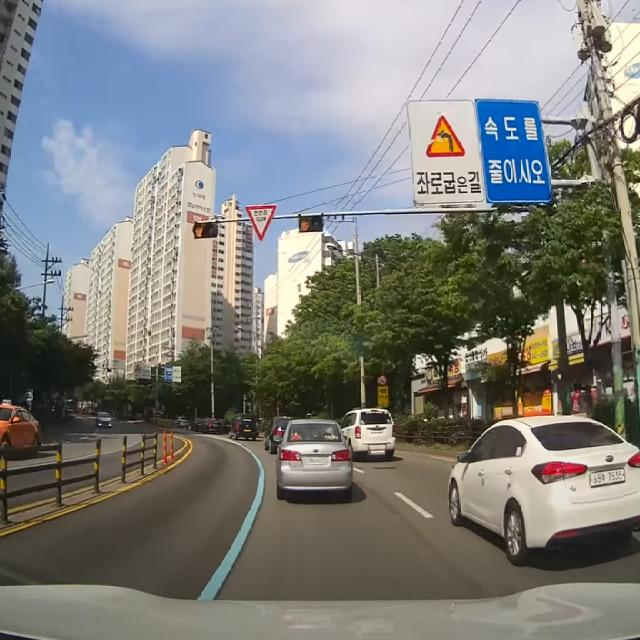Yellow Light: (298, 216, 311, 232), (192, 221, 204, 238)
